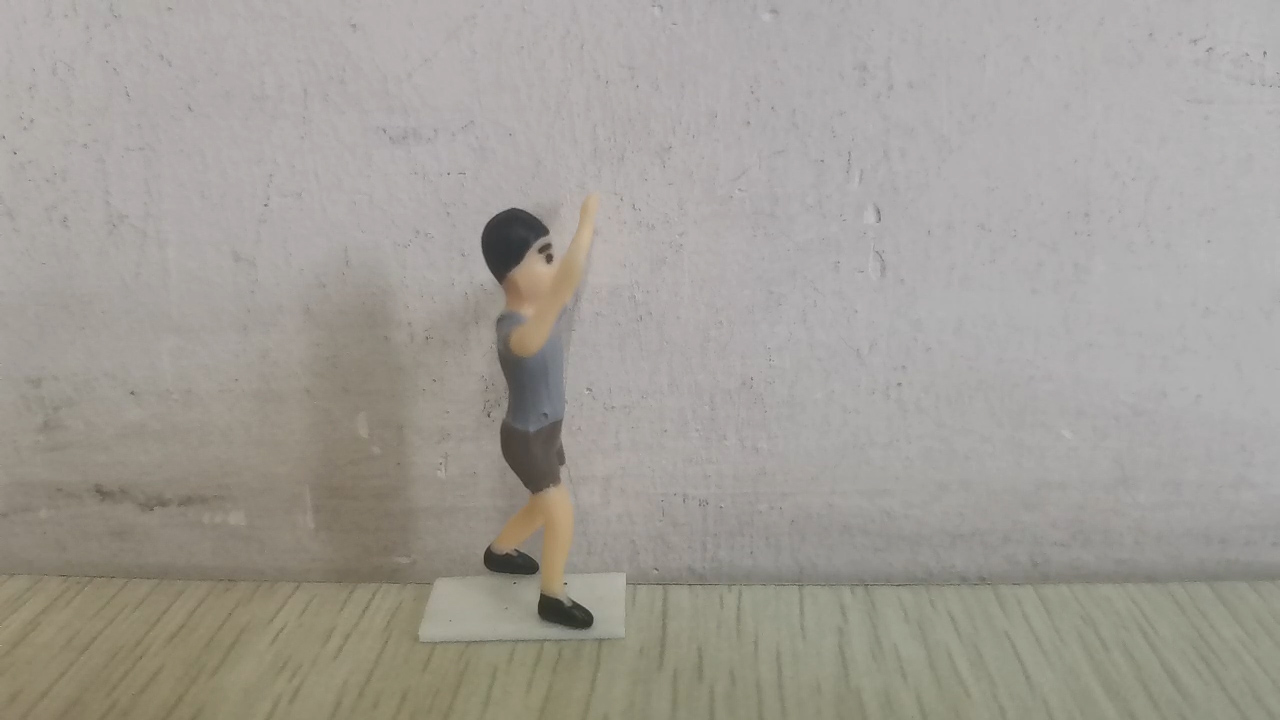person: (478, 190, 607, 632)
